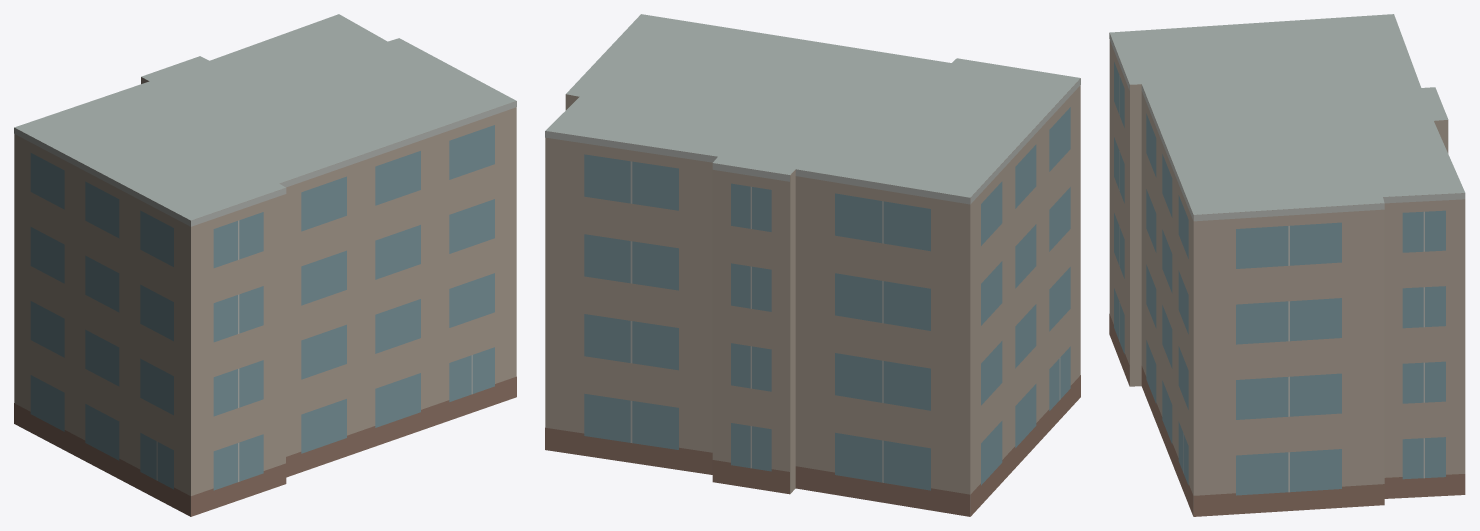
The model's file is survey-upis-32980346.glb.
The picture shows the model from 3 angles, left to right: view 1: azimuth 30°, elevation 25°; view 2: azimuth 150°, elevation 25°; view 3: azimuth 270°, elevation 25°; orthographic projection. The views are drawn at different scales.
Visible parts, largest first — view 1: survey-upis-32980346.tmp; view 2: survey-upis-32980346.tmp; view 3: survey-upis-32980346.tmp.
Boxes of the visible parts, x1,y1,x2,y2 form: survey-upis-32980346.tmp: (14,14,516,516); survey-upis-32980346.tmp: (545,14,1080,516); survey-upis-32980346.tmp: (1109,14,1465,516).
Bounding box in the file's own units: 16.43 × 11.5 × 12.3.
